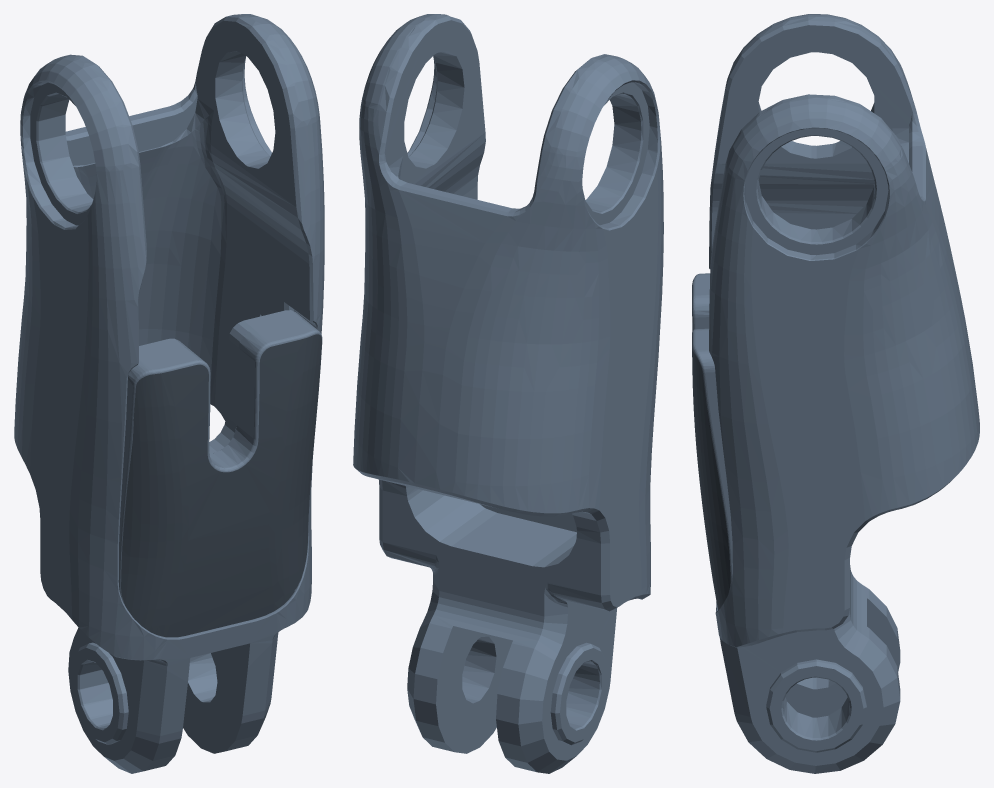
File: index_proximal.glb
The picture shows the model from 3 angles, left to right: view 1: azimuth 30°, elevation 25°; view 2: azimuth 150°, elevation 25°; view 3: azimuth 270°, elevation 25°; orthographic projection. The views are drawn at different scales.
Visible parts, largest first — view 1: L_index_prox; view 2: L_index_prox; view 3: L_index_prox.
Part boxes in pixels (x1,y1,x2,y2): L_index_prox: (14, 14, 324, 773); L_index_prox: (353, 14, 663, 773); L_index_prox: (692, 14, 979, 773).
Bounding box in the file's own units: 0.0154 × 0.0455 × 0.0171.
